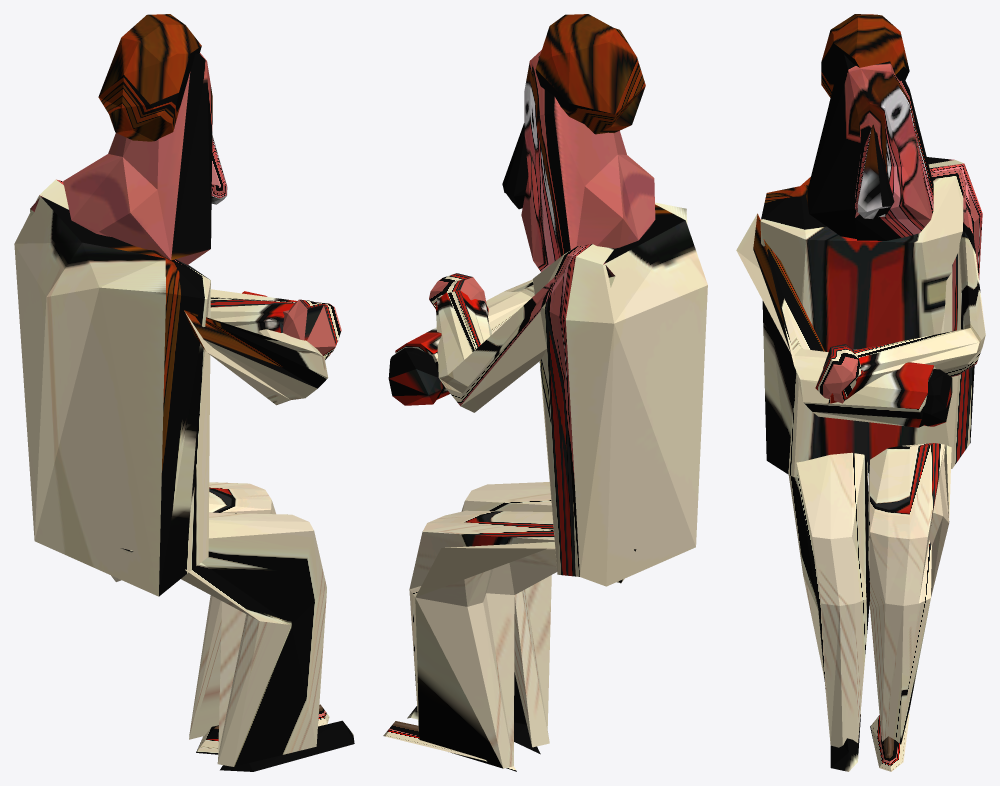
Rendered from NannMeet.glb.
The picture shows the model from 3 angles, left to right: view 1: azimuth 30°, elevation 25°; view 2: azimuth 150°, elevation 25°; view 3: azimuth 270°, elevation 25°; orthographic projection. The views are drawn at different scales.
Visible parts, largest first — view 1: NannMeet; view 2: NannMeet; view 3: NannMeet.
Part boxes in pixels (x1=…): NannMeet: x1=14, y1=14, x2=354, y2=771; NannMeet: x1=383, y1=14, x2=707, y2=771; NannMeet: x1=736, y1=14, x2=985, y2=771.
Size of the model in its own units: 111 by 263 by 87.79.
1 material, 1 textured.
